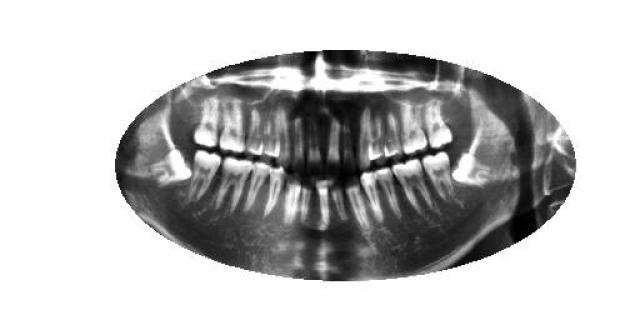Restorations: (451, 152, 495, 192), (150, 150, 191, 188)
